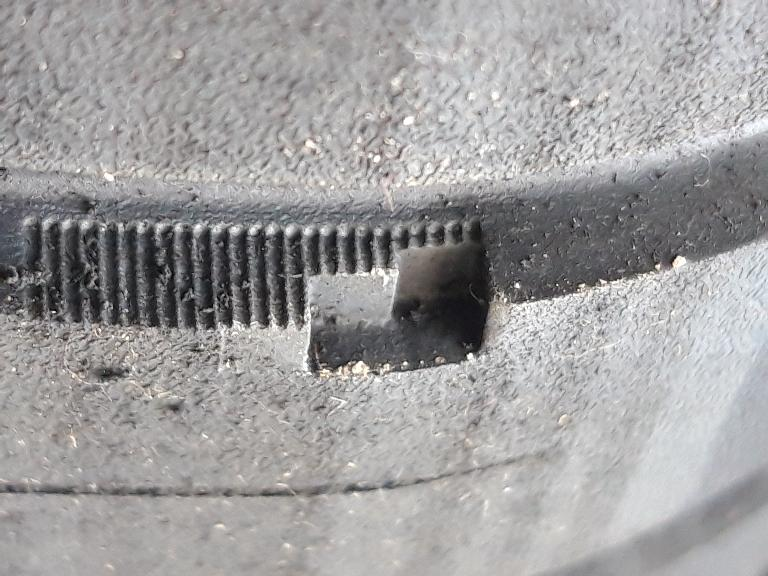temoin:50: (198, 206, 523, 392)
